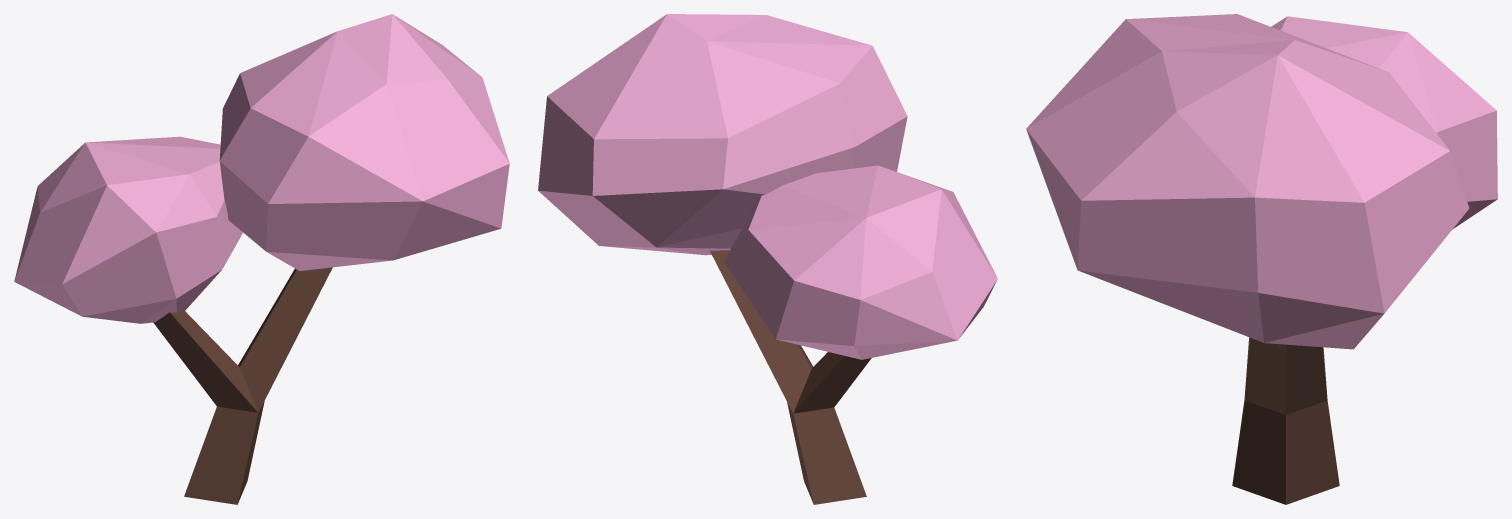
Rendered from CherryBlossm_medium.fbx.
3 renders of one model, left to right at view 1: azimuth 30°, elevation 25°; view 2: azimuth 150°, elevation 25°; view 3: azimuth 270°, elevation 25°, orthographic. The views are drawn at different scales.
Visible parts, largest first — view 1: Cylinder.010; view 2: Cylinder.010; view 3: Cylinder.010.
Part boxes in pixels (<box>): Cylinder.010: <box>14,14,509,504</box>; Cylinder.010: <box>538,14,997,504</box>; Cylinder.010: <box>1026,14,1497,504</box>.
Size of the model in its own units: 1122 by 1094 by 875.
